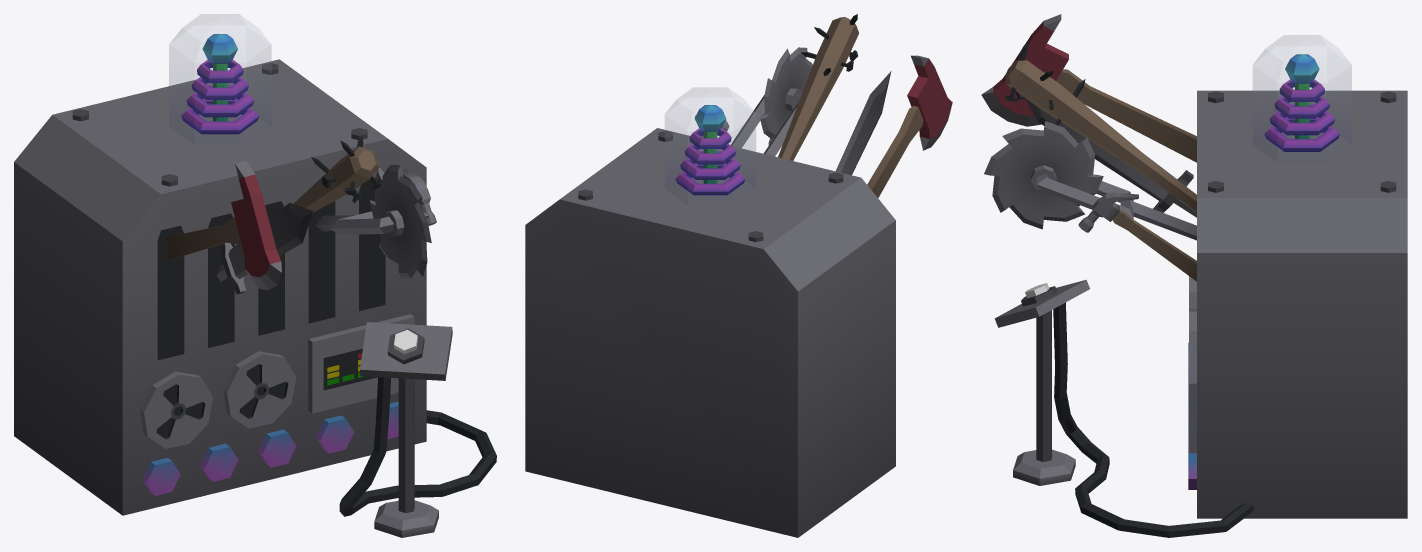
The model's file is MurderTron.fbx.
3 renders of one model, left to right at view 1: azimuth 30°, elevation 25°; view 2: azimuth 150°, elevation 25°; view 3: azimuth 270°, elevation 25°, orthographic. The views are drawn at different scales.
Parts seen in each view (by area): view 1: MurderTron2000, ActivationButtonStand, FireAxe, Sawblade, BaseballBat, Sword, SawbladeHandle, Hammer; view 2: MurderTron2000, BaseballBat, FireAxe, Sawblade, Sword, SawbladeHandle; view 3: MurderTron2000, ActivationButtonStand, Sawblade, FireAxe, BaseballBat, Hammer, SawbladeHandle, Sword.
Part boxes in pixels (x1,y1,x2,y2): MurderTron2000: (14, 14, 426, 515); ActivationButtonStand: (339, 322, 496, 537); FireAxe: (167, 161, 281, 290); Sawblade: (370, 165, 431, 278); BaseballBat: (293, 135, 382, 212); Sword: (216, 202, 313, 294); SawbladeHandle: (316, 211, 428, 234); Hammer: (369, 169, 436, 235); MurderTron2000: (525, 87, 895, 537); BaseballBat: (778, 14, 858, 160); FireAxe: (867, 55, 952, 197); Sawblade: (760, 47, 812, 145); Sword: (836, 71, 891, 175); SawbladeHandle: (731, 95, 800, 156); MurderTron2000: (1188, 35, 1407, 518); ActivationButtonStand: (994, 279, 1253, 537); Sawblade: (984, 121, 1103, 229); FireAxe: (981, 14, 1196, 162); BaseballBat: (1005, 41, 1196, 211); Hammer: (1078, 192, 1196, 281); SawbladeHandle: (1036, 173, 1196, 240); Sword: (1025, 98, 1196, 217).
Bounding box in the file's own units: 179 × 206 × 196.
